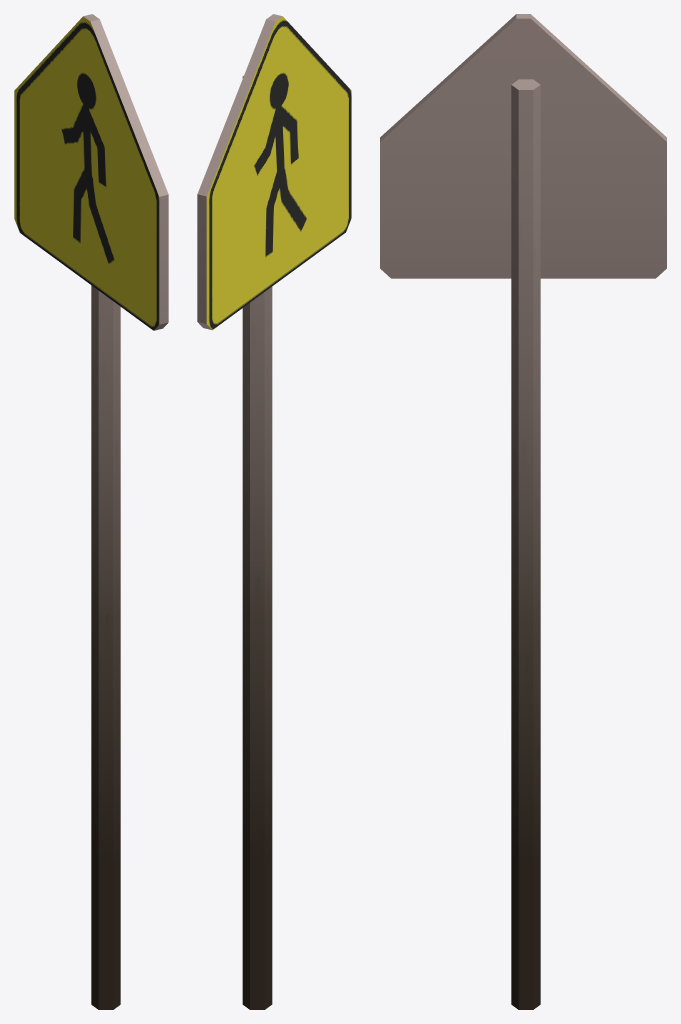
File: Sing1.fbx
3 renders of one model, left to right at view 1: azimuth 30°, elevation 25°; view 2: azimuth 150°, elevation 25°; view 3: azimuth 270°, elevation 25°, orthographic.
Parts seen in each view (by area): view 1: Circle.009; view 2: Circle.009; view 3: Circle.009.
Part boxes in pixels (x1,y1,x2,y2): Circle.009: (14, 14, 168, 1009); Circle.009: (197, 14, 351, 1009); Circle.009: (380, 14, 666, 1009).
Size of the model in its own units: 12.35 by 370 by 98.17.
